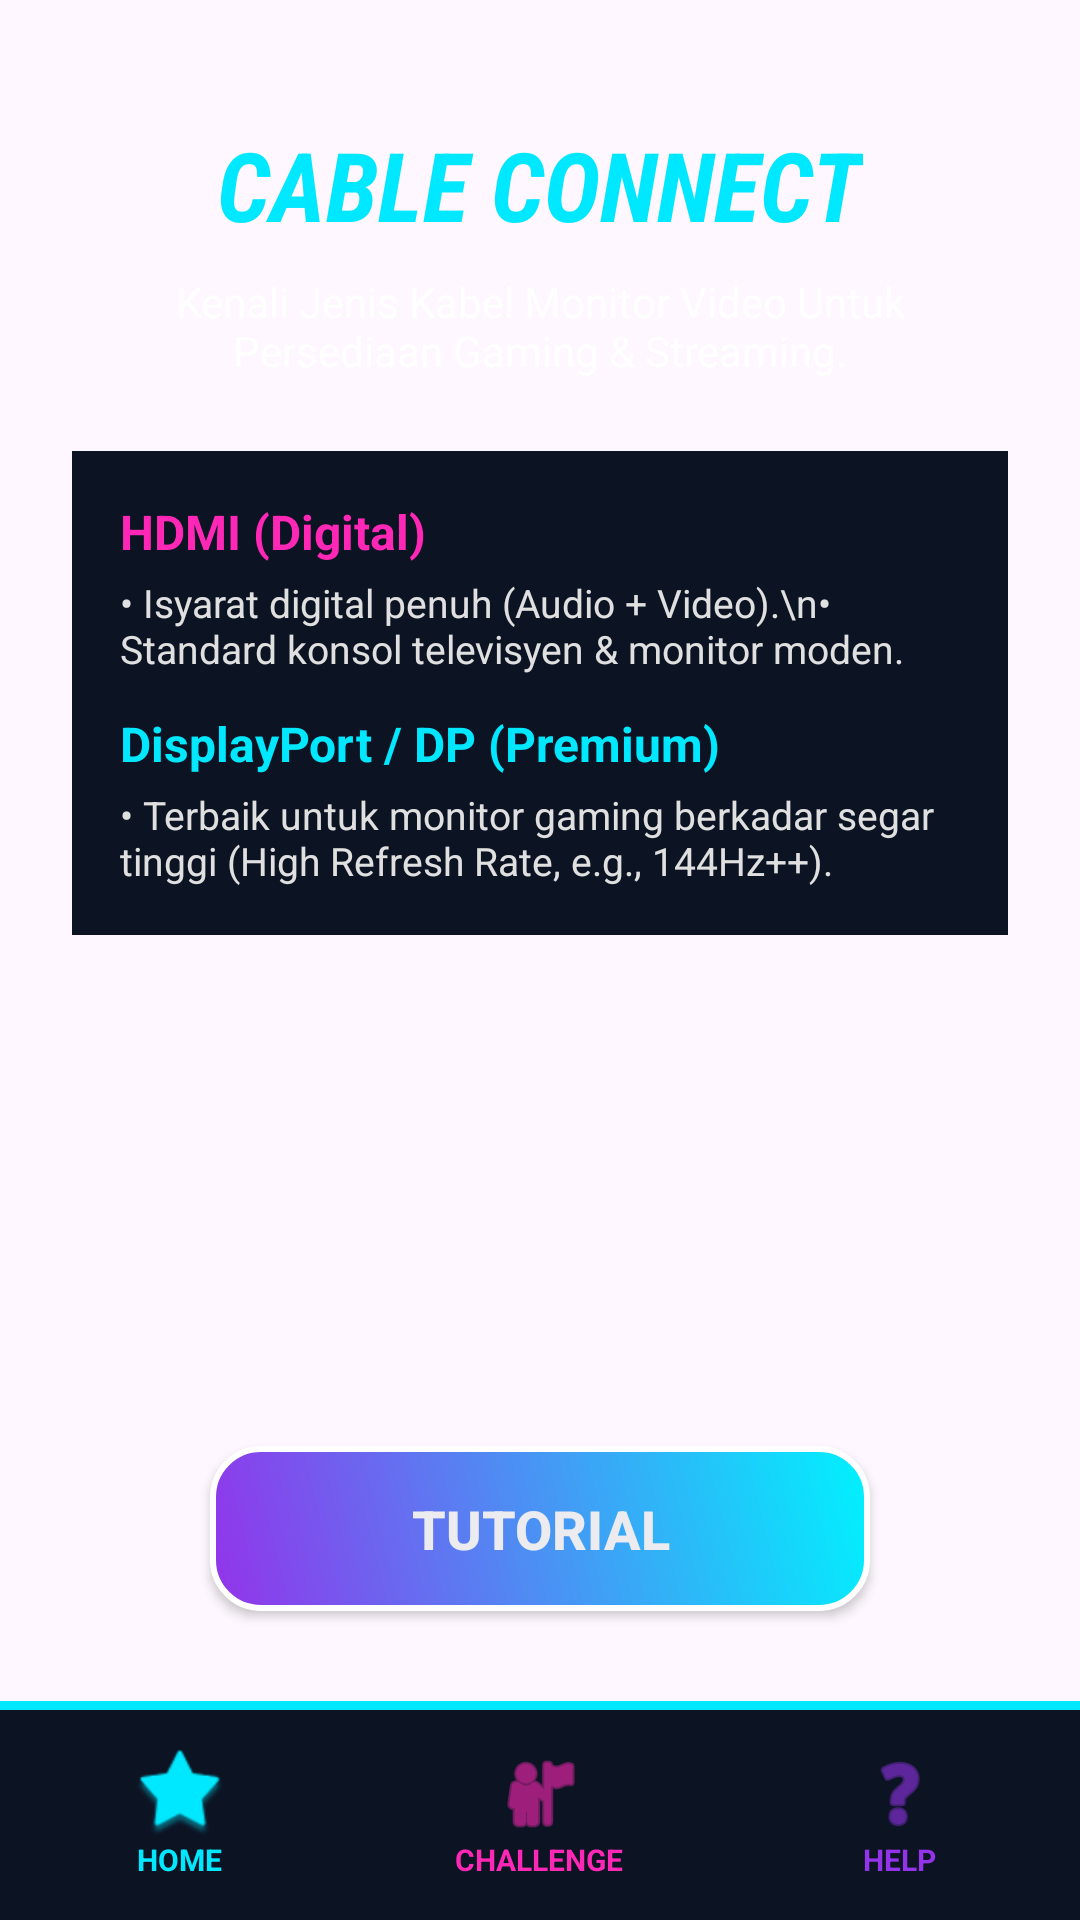

Icon click points for this 1080 x 1920 phone screenshot, format point (x, y):
star on: point (180, 1790)
